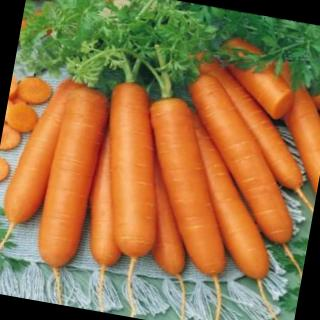Wortel: (163, 69, 320, 252), (124, 94, 254, 280), (87, 82, 185, 263), (34, 83, 112, 274)
